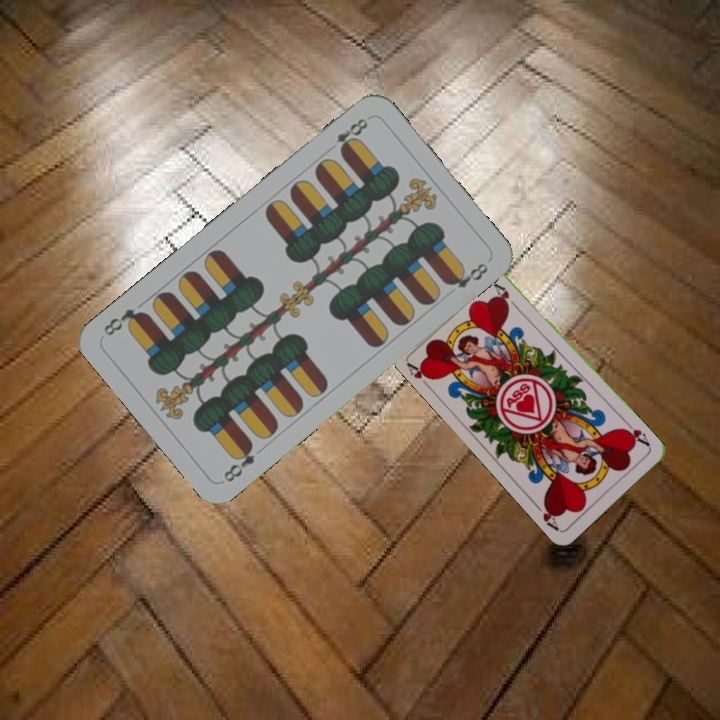E8: (219, 438, 258, 485), (331, 114, 371, 157)
HA: (619, 418, 653, 451), (403, 359, 436, 393)
